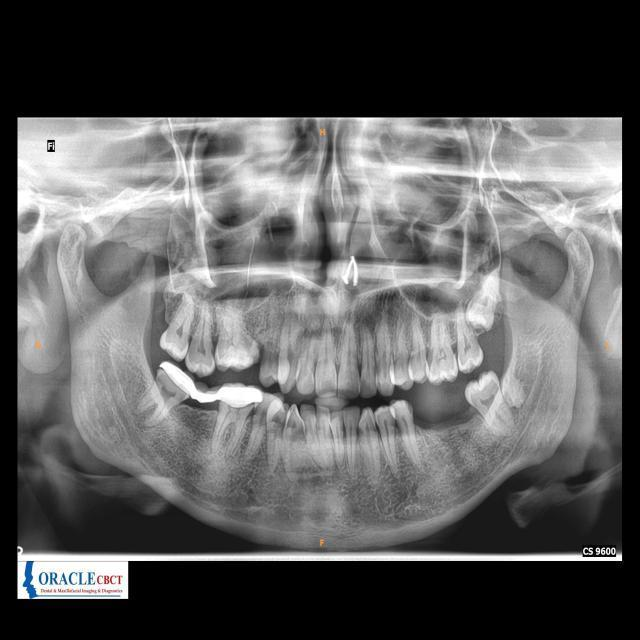dentin-curugu: (270, 410, 284, 425)
kaplama: (156, 357, 202, 400), (219, 378, 263, 413)
kopru: (185, 381, 226, 414)
